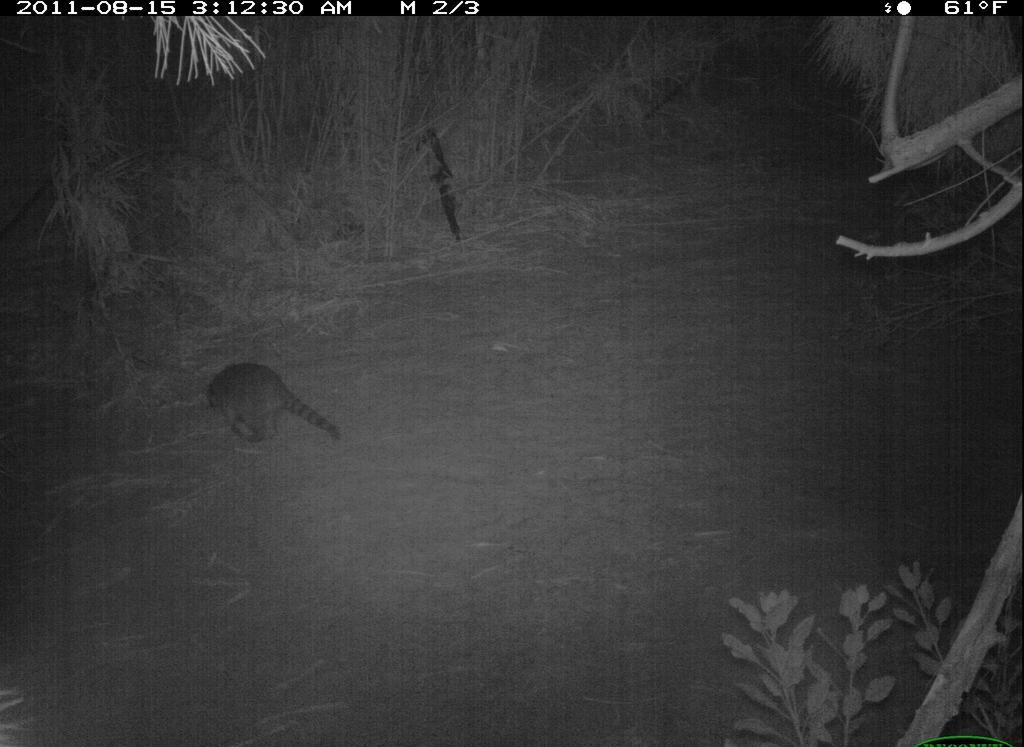raccoon: (201, 354, 349, 469)
